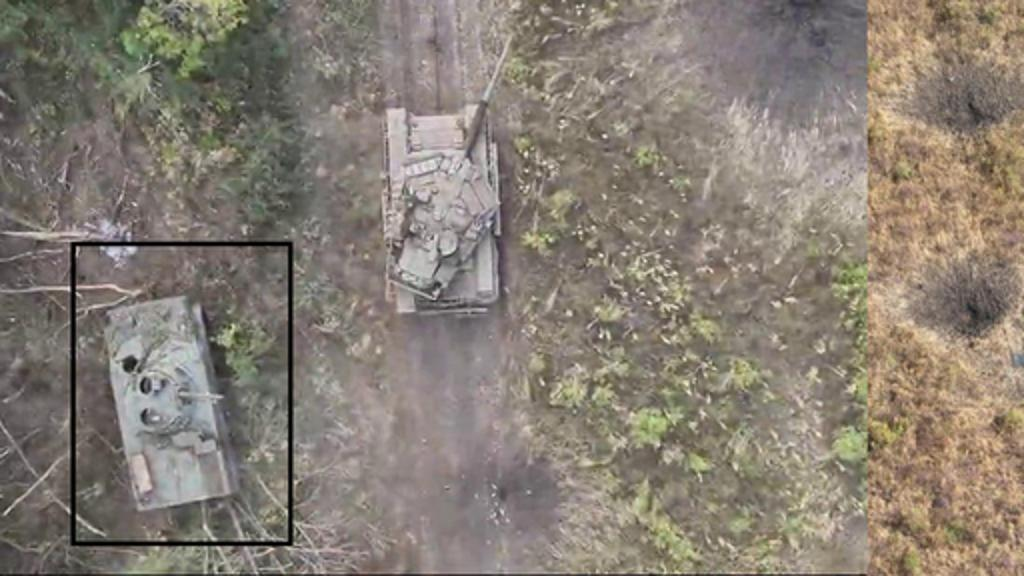APC-IFV: (86, 284, 244, 520)
TANK: (372, 30, 524, 324)
